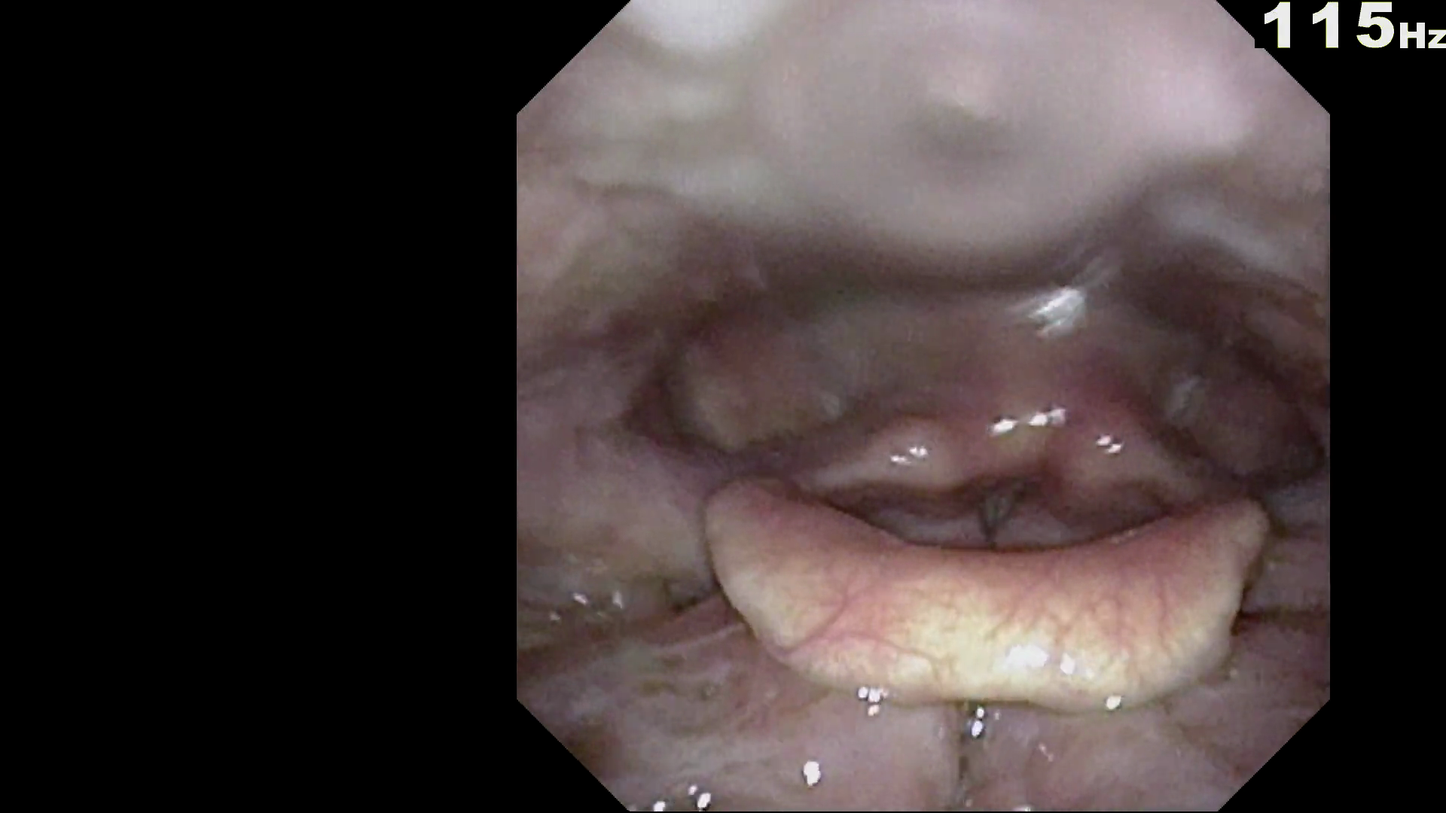epiglottis: (672, 510, 1281, 728)
trachea: (968, 476, 1041, 550)
